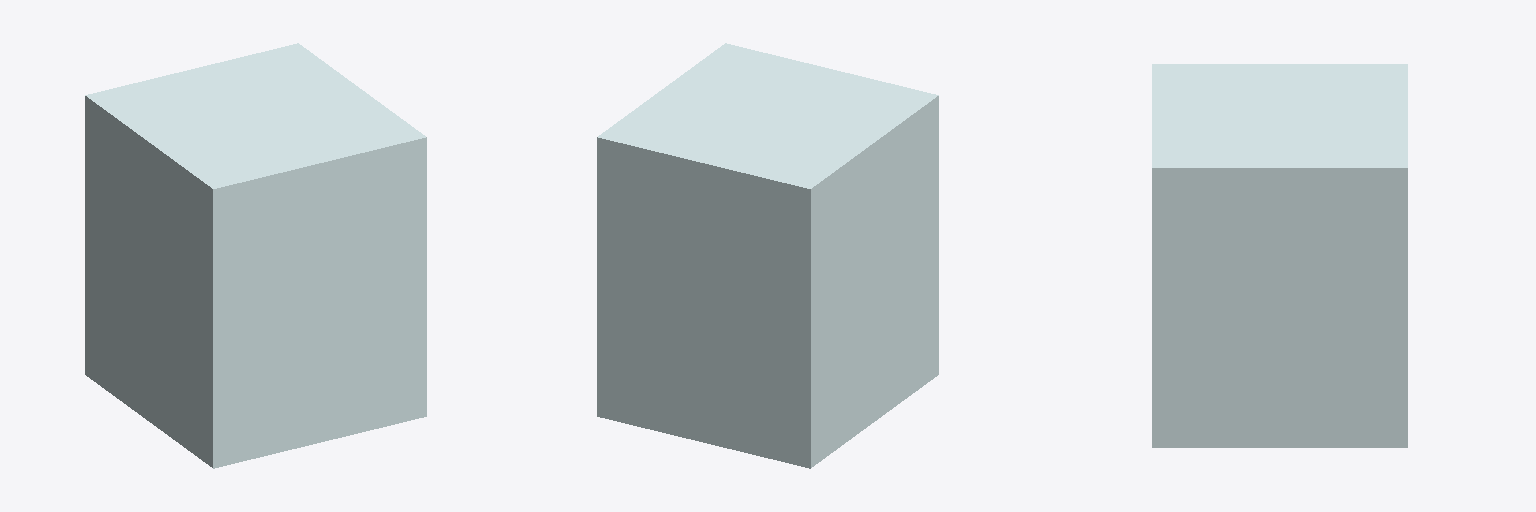
3 views of the same model, side by side, from view 1: azimuth 30°, elevation 25°; view 2: azimuth 150°, elevation 25°; view 3: azimuth 270°, elevation 25° (orthographic).
Parts seen in each view (by area): view 1: prize_machine_top; view 2: prize_machine_top; view 3: prize_machine_top.
Boxes of the visible parts, box(x1,y1,x2,y2) form: prize_machine_top: box(85, 43, 426, 468); prize_machine_top: box(597, 43, 938, 468); prize_machine_top: box(1152, 64, 1407, 447).
Bounding box in the file's own units: 3.84 × 4.8 × 4.
1 materials, 1 textured.